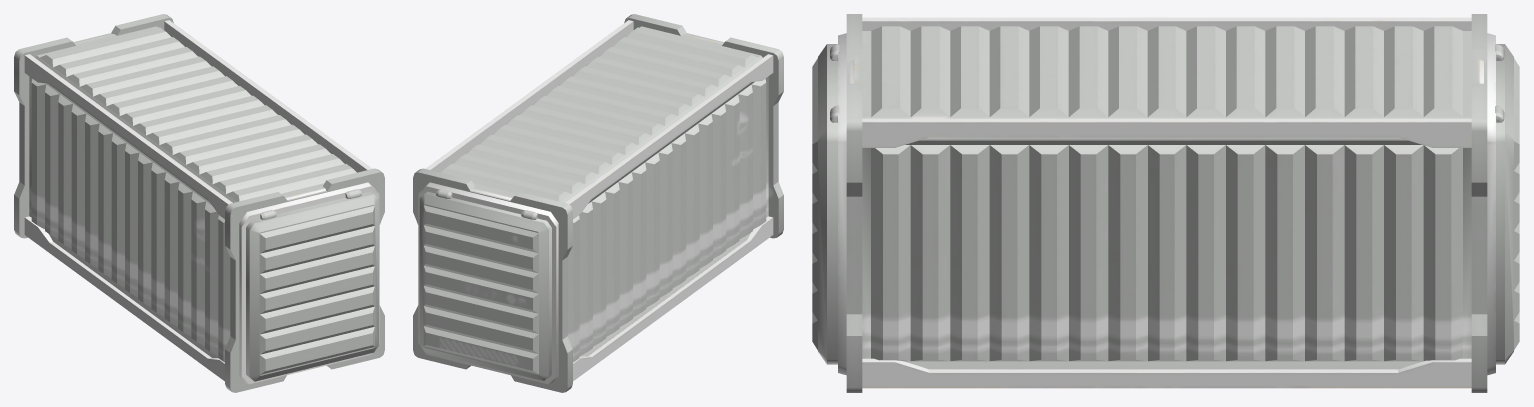
File: Pfb_JLABContainer__2.fbx
3 renders of one model, left to right at view 1: azimuth 30°, elevation 25°; view 2: azimuth 150°, elevation 25°; view 3: azimuth 270°, elevation 25°, orthographic. The views are drawn at different scales.
Visible parts, largest first — view 1: MAT_JLABContainer_03; view 2: MAT_JLABContainer_03; view 3: MAT_JLABContainer_03.
Boxes of the visible parts, bbox=[...] form: MAT_JLABContainer_03: bbox=[14, 14, 384, 392]; MAT_JLABContainer_03: bbox=[413, 14, 783, 392]; MAT_JLABContainer_03: bbox=[812, 14, 1519, 392].
Bounding box in the file's own units: 2.05 × 2.36 × 5.5.
Materials: 1 (1 with a texture image).
